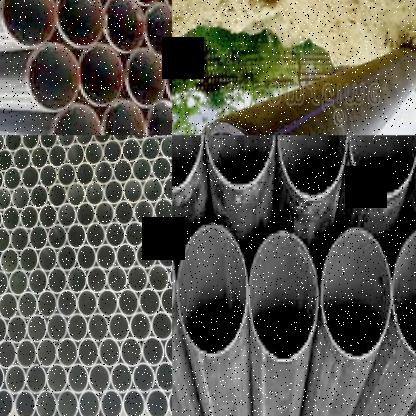pipe: (316, 225, 396, 362), (244, 230, 322, 366), (173, 221, 248, 359), (274, 135, 350, 203), (344, 135, 416, 199), (23, 41, 83, 117), (202, 135, 277, 191), (388, 224, 416, 364), (77, 43, 128, 108), (0, 0, 59, 50), (52, 0, 106, 50), (100, 0, 147, 57), (123, 48, 166, 109), (49, 102, 103, 136), (141, 0, 172, 59), (102, 98, 148, 136), (146, 98, 172, 136), (132, 362, 155, 394), (88, 362, 111, 394), (110, 363, 133, 394), (67, 363, 89, 395), (129, 312, 152, 342), (120, 337, 142, 368), (138, 288, 161, 317), (46, 364, 68, 394), (142, 337, 164, 367), (77, 338, 99, 368), (98, 338, 120, 368), (87, 313, 109, 343), (147, 264, 170, 292), (108, 313, 130, 342), (117, 289, 139, 318), (57, 338, 78, 368), (26, 364, 47, 394), (146, 389, 169, 416), (13, 389, 36, 416), (99, 389, 122, 416), (122, 389, 145, 416), (5, 365, 26, 394), (36, 339, 57, 368), (97, 289, 118, 318), (16, 339, 36, 369), (56, 389, 78, 416), (106, 266, 128, 293), (144, 220, 166, 247), (67, 314, 88, 342), (151, 312, 172, 340), (127, 265, 148, 293), (37, 290, 57, 319), (8, 270, 29, 297), (35, 389, 56, 416), (78, 389, 99, 416), (47, 267, 68, 294), (56, 245, 77, 272), (17, 292, 38, 319), (124, 221, 145, 248), (27, 315, 47, 343), (47, 314, 67, 342), (7, 316, 27, 344), (57, 290, 77, 318), (77, 290, 97, 318), (87, 266, 107, 294), (67, 266, 87, 294), (27, 269, 48, 295), (122, 178, 143, 204), (66, 223, 87, 249), (133, 199, 154, 225), (105, 222, 126, 248), (136, 243, 157, 269), (155, 360, 172, 392), (163, 49, 172, 109), (76, 244, 96, 271), (86, 222, 106, 249), (116, 243, 136, 270), (75, 202, 96, 227), (142, 178, 163, 203), (151, 156, 172, 181), (140, 136, 161, 161), (47, 224, 67, 250), (1, 206, 21, 232), (114, 200, 134, 226), (96, 244, 116, 270), (37, 246, 57, 272), (19, 247, 38, 274), (112, 159, 133, 183), (103, 180, 124, 204), (19, 205, 39, 230), (84, 141, 104, 166), (85, 181, 105, 206), (102, 139, 122, 164), (66, 182, 86, 207), (0, 248, 19, 274), (29, 225, 48, 251), (20, 166, 40, 190), (132, 158, 152, 182), (56, 163, 76, 187), (121, 138, 141, 162), (48, 183, 67, 208), (95, 201, 114, 226), (38, 204, 57, 229), (153, 198, 172, 223), (57, 203, 76, 228), (94, 160, 113, 185), (48, 144, 67, 169), (10, 227, 29, 252), (66, 142, 85, 167), (0, 339, 16, 368), (0, 292, 17, 319), (11, 186, 30, 210), (3, 167, 22, 191), (12, 147, 31, 171), (75, 162, 94, 186), (30, 184, 48, 209), (30, 146, 49, 169), (39, 164, 57, 188), (122, 0, 166, 9), (157, 242, 172, 268), (0, 389, 14, 415), (160, 287, 172, 315), (4, 135, 22, 152), (0, 148, 13, 171), (21, 135, 39, 151), (160, 135, 172, 159), (0, 186, 11, 211), (162, 176, 172, 202), (39, 135, 57, 149), (164, 335, 172, 366), (56, 135, 75, 148), (0, 228, 10, 252), (0, 270, 8, 297), (74, 136, 93, 146), (165, 218, 172, 245), (92, 136, 112, 145), (0, 316, 6, 344), (167, 388, 172, 416), (111, 135, 130, 142), (0, 364, 4, 392), (129, 136, 150, 140), (0, 135, 4, 154), (0, 168, 3, 192), (0, 208, 2, 233)
